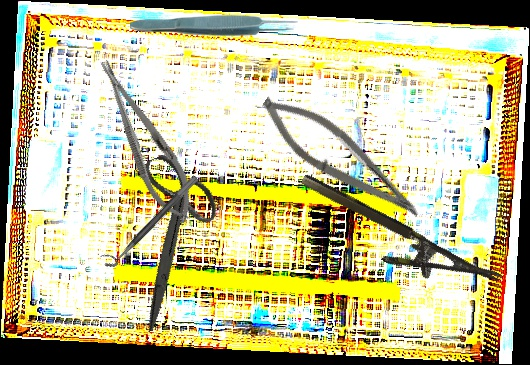Fixation Ring: (97, 167, 200, 272)
Iris Scissors: (86, 142, 253, 334)
Micro Scissor: (249, 85, 435, 229)
Needle Holder: (286, 171, 503, 314), (85, 49, 207, 233)
Tissue Forceps: (130, 15, 298, 37)
